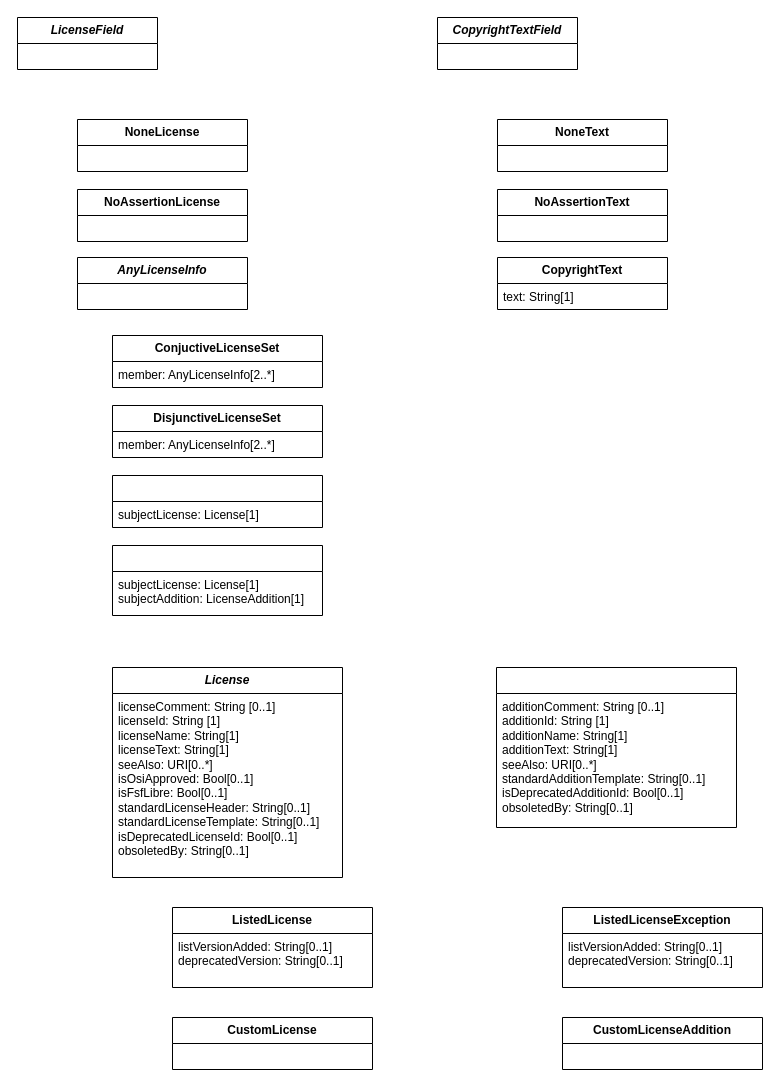
This 780x1090 diagram has some shape labels left out. Here are the shapes that lost their labels. From the top down, the box of each, then its label:
(112, 474, 322, 528): OrLaterOperator
(112, 544, 322, 616): WithAdditionOperator
(496, 666, 736, 828): LicenseAddition
